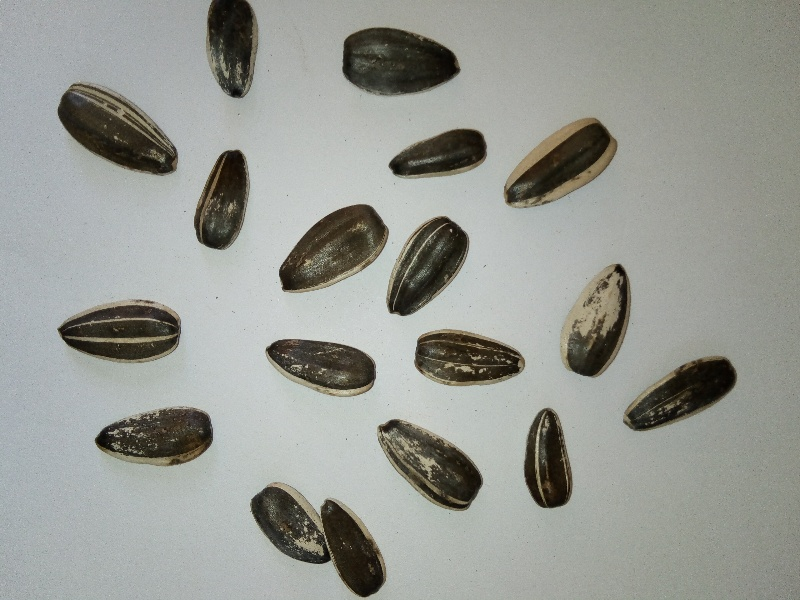girasol: (39, 72, 182, 178), (498, 97, 621, 217), (360, 409, 493, 517), (334, 16, 472, 102), (271, 194, 389, 291), (81, 397, 227, 473), (44, 294, 193, 367), (556, 253, 640, 382), (625, 351, 748, 436), (249, 326, 383, 403), (516, 403, 590, 524), (407, 324, 531, 394), (193, 139, 262, 257), (381, 122, 490, 185)
